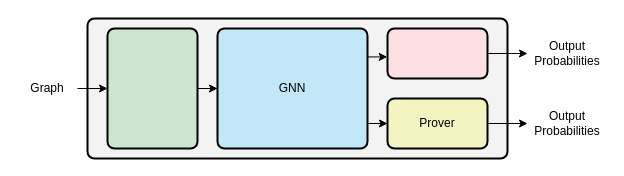
The diagram is 624 pixels wide and 176 high, and some of its shapes have lost their labels. Here are the shapes that lost their labels. From the top down, the centre of each, then its label:
At (437,53): "Conjecturer".
At (152,88): "Node Embeddings".
